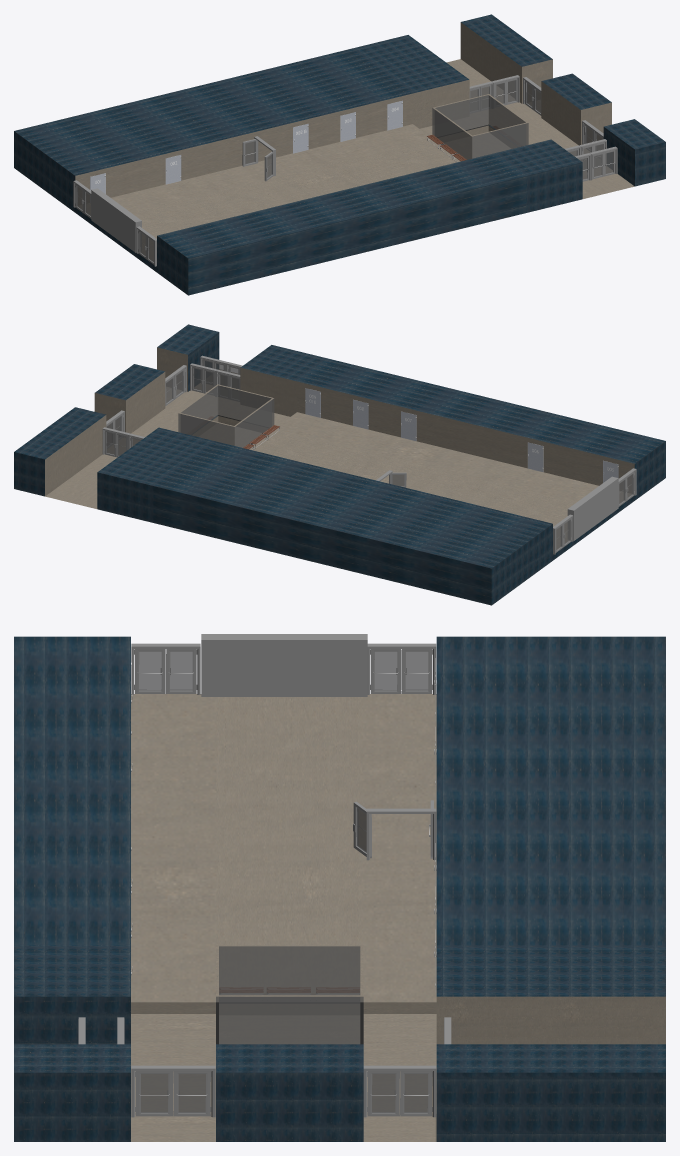
Rendered from school.gltf.
3 views of the same model, one above another, from view 1: azimuth 30°, elevation 25°; view 2: azimuth 150°, elevation 25°; view 3: azimuth 270°, elevation 25° (orthographic). The views are drawn at different scales.
Parts seen in each view (by area): view 1: school, wall.end, room.door.002, room.door.004, room.door.003, room.door.001; view 2: school, wall.end, room.door.009, room.door.006, room.door.007, room.door.008; view 3: school, wall.end, door_right.009, door_left.009, door_left.010, door_right.010, door_left.007, door_right.007, door_left.008, door_right.008, border_door_entry.right.003, border_door_entry.right.004 (+4 smaller).
Part boxes in pixels (<box>): school: <box>14,14,665,295</box>; wall.end: <box>91,188,141,252</box>; room.door.002: <box>165,155,181,184</box>; room.door.004: <box>387,100,402,130</box>; room.door.003: <box>340,112,355,141</box>; room.door.001: <box>293,123,308,153</box>; school: <box>14,324,665,605</box>; wall.end: <box>567,476,618,540</box>; room.door.009: <box>527,442,543,472</box>; room.door.006: <box>305,388,320,417</box>; room.door.007: <box>353,399,368,429</box>; room.door.008: <box>401,411,416,441</box>; school: <box>14,636,665,1141</box>; wall.end: <box>201,634,367,696</box>; door_right.009: <box>173,1071,211,1116</box>; door_left.009: <box>135,1071,173,1116</box>; door_left.010: <box>367,1071,399,1116</box>; door_right.010: <box>400,1071,432,1116</box>; door_left.007: <box>370,649,401,693</box>; door_right.007: <box>401,649,432,693</box>; door_left.008: <box>134,649,165,693</box>; door_right.008: <box>166,649,197,693</box>; border_door_entry.right.003: <box>131,1065,215,1117</box>; border_door_entry.right.004: <box>363,1065,436,1117</box>.
Size of what is drawn, in the model's own units: 9.02 by 0.666 by 5.67.
Materials: 92 (18 with a texture image).
